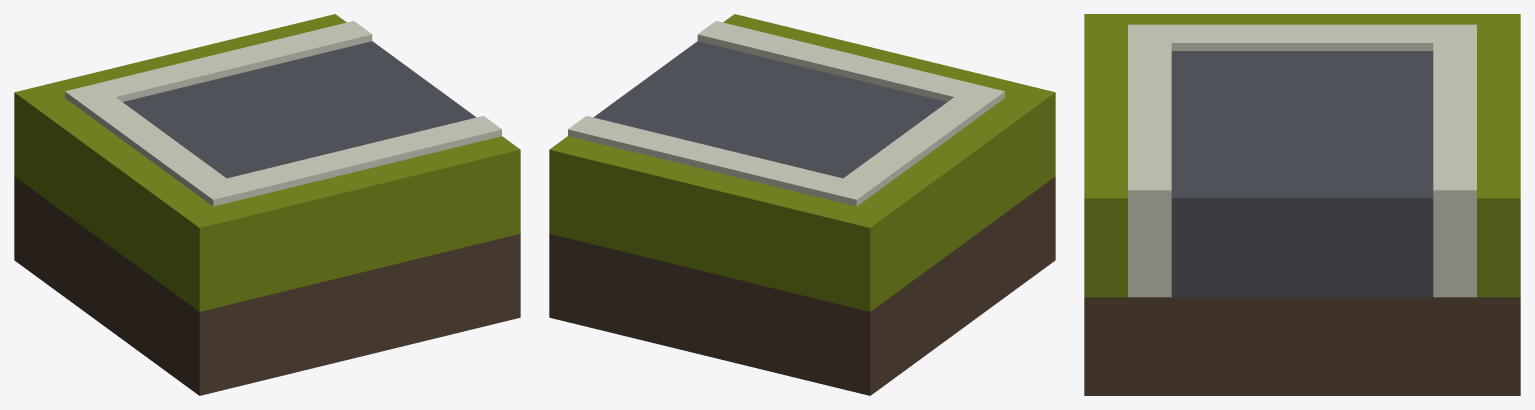
The model's file is grass-deadend.dae.
3 views of the same model, side by side, from view 1: azimuth 30°, elevation 25°; view 2: azimuth 150°, elevation 25°; view 3: azimuth 270°, elevation 25° (orthographic). The views are drawn at different scales.
Visible parts, largest first — view 1: street.1; view 2: street.1; view 3: street.1.
Part boxes in pixels (x1,y1,x2,y2): street.1: (14,14,520,395); street.1: (549,14,1055,395); street.1: (1084,14,1520,395).
Bounding box in the file's own units: 500 × 260 × 500.
